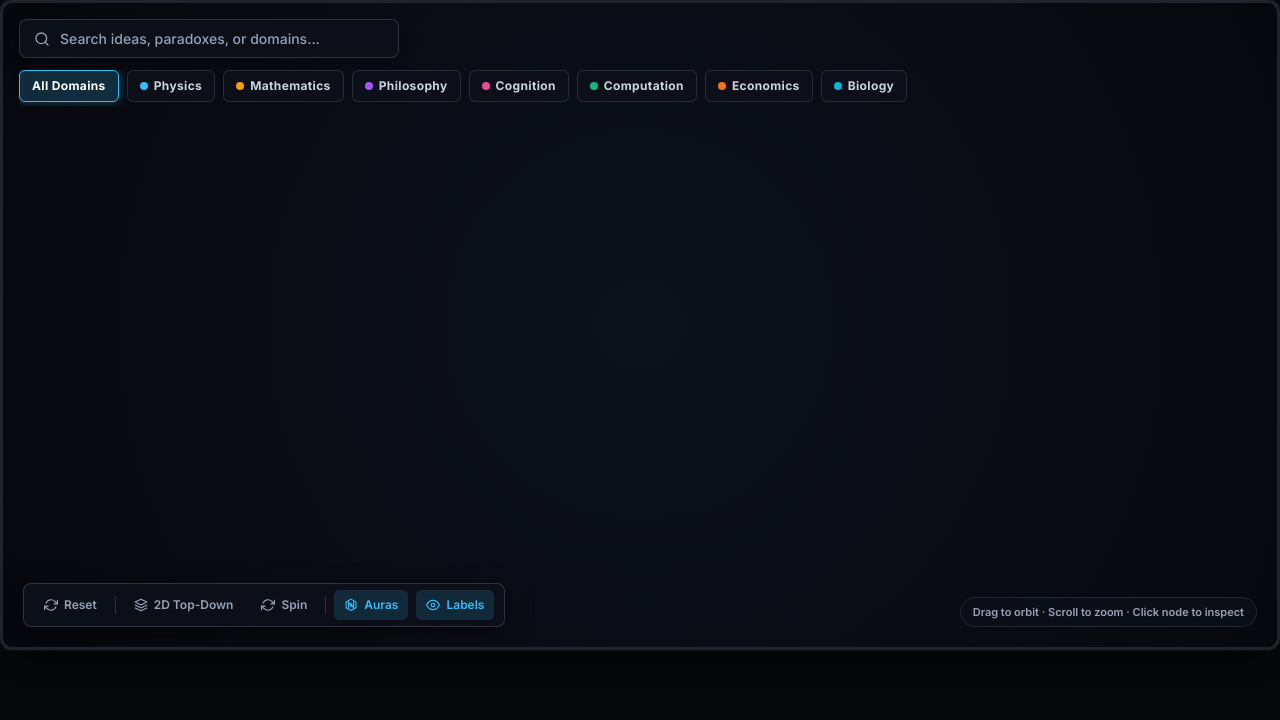
Test: KnowledgeGraph3D Component › closes the inspector drawer when clicking close button
The width and height of the screenshot is (1280, 720).
Type "Trolley" into the field with placeholder "Search ideas, paradoxes, or domains..." at (222, 38), box [60, 28, 384, 49]
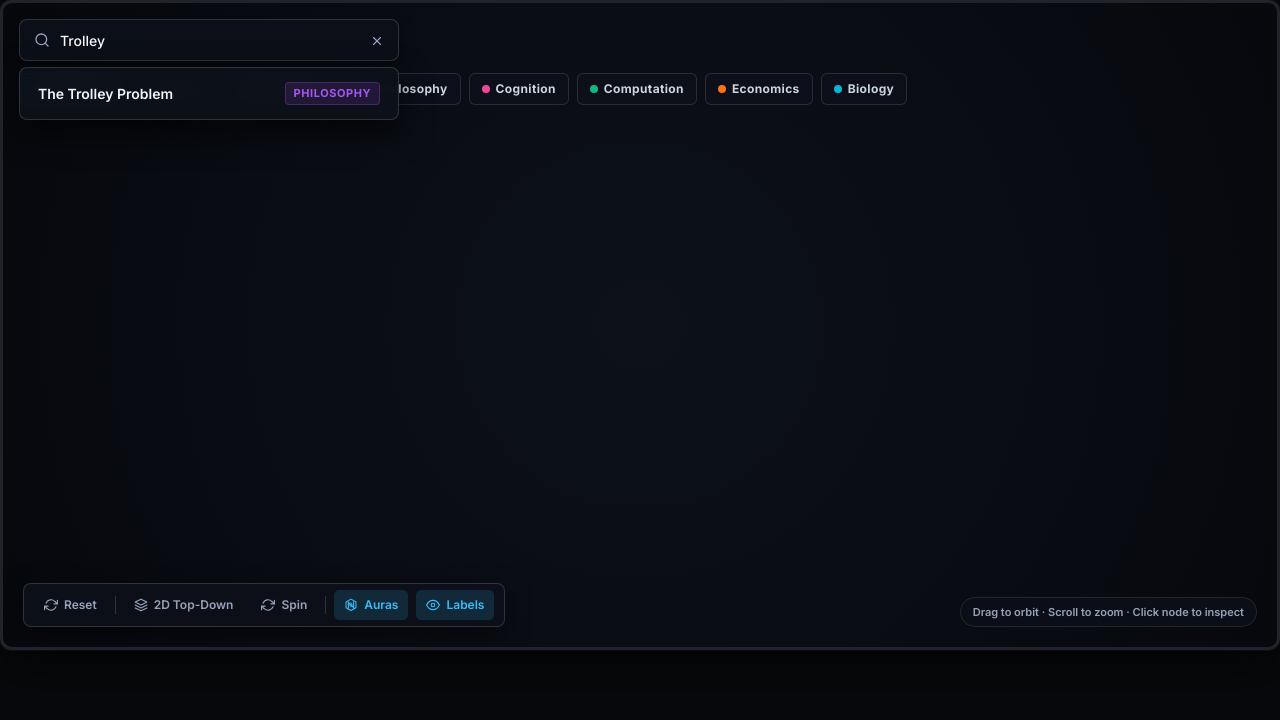
Click the text "The Trolley Problem" at (106, 93), box [38, 83, 173, 104]
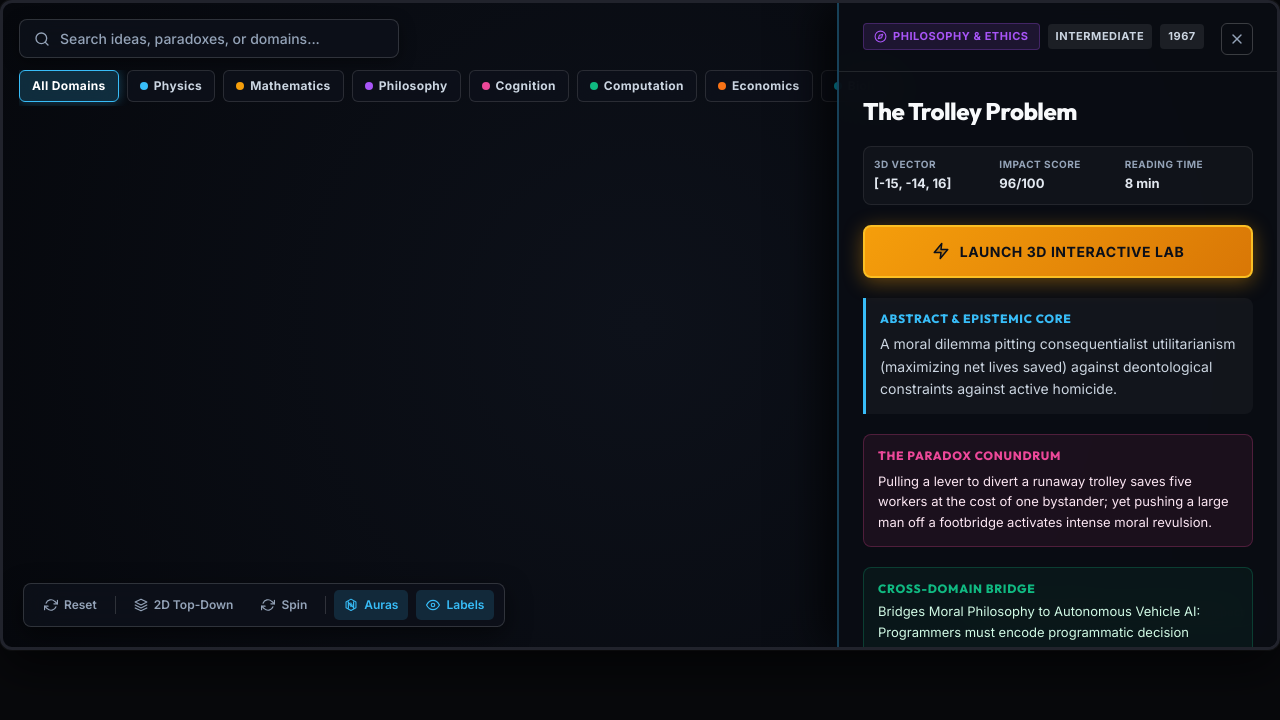
Check: the element with test id "inspector-drawer" is shown, box [837, 3, 1277, 647]
Click the button named "Close Inspector" at (1237, 39), box [1221, 23, 1253, 55]
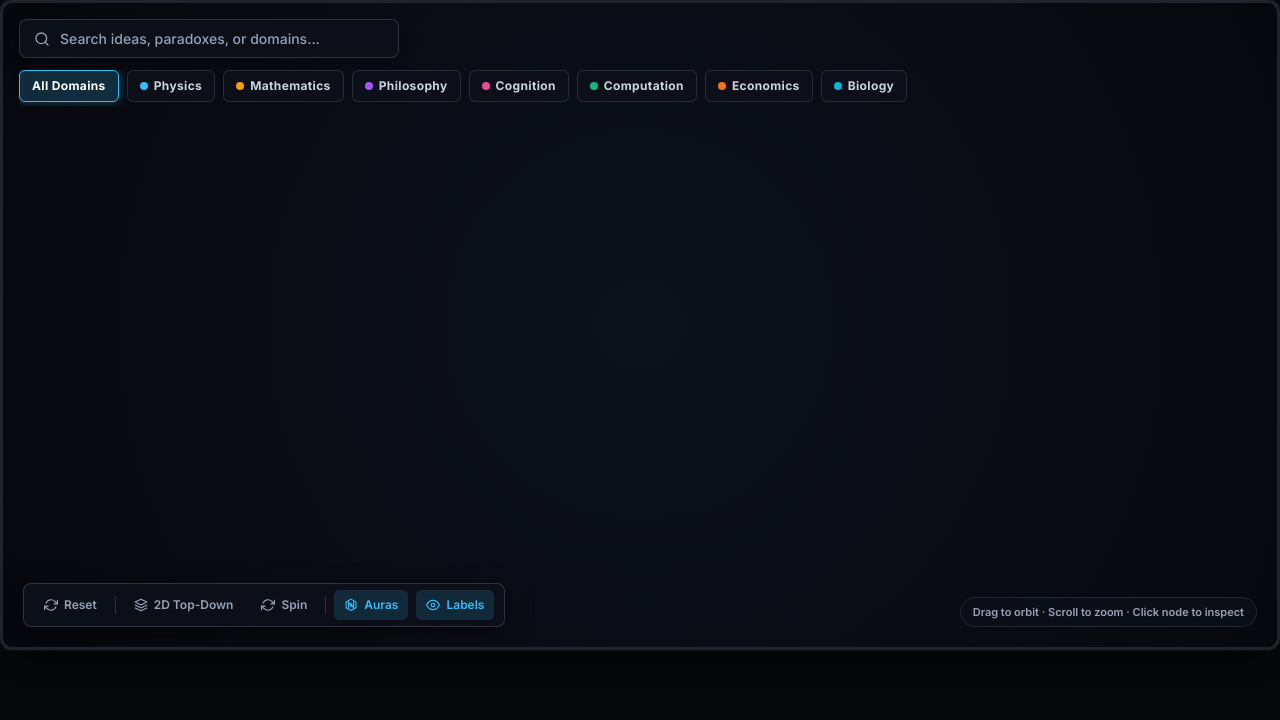
Check: the element with test id "inspector-drawer" is gone
